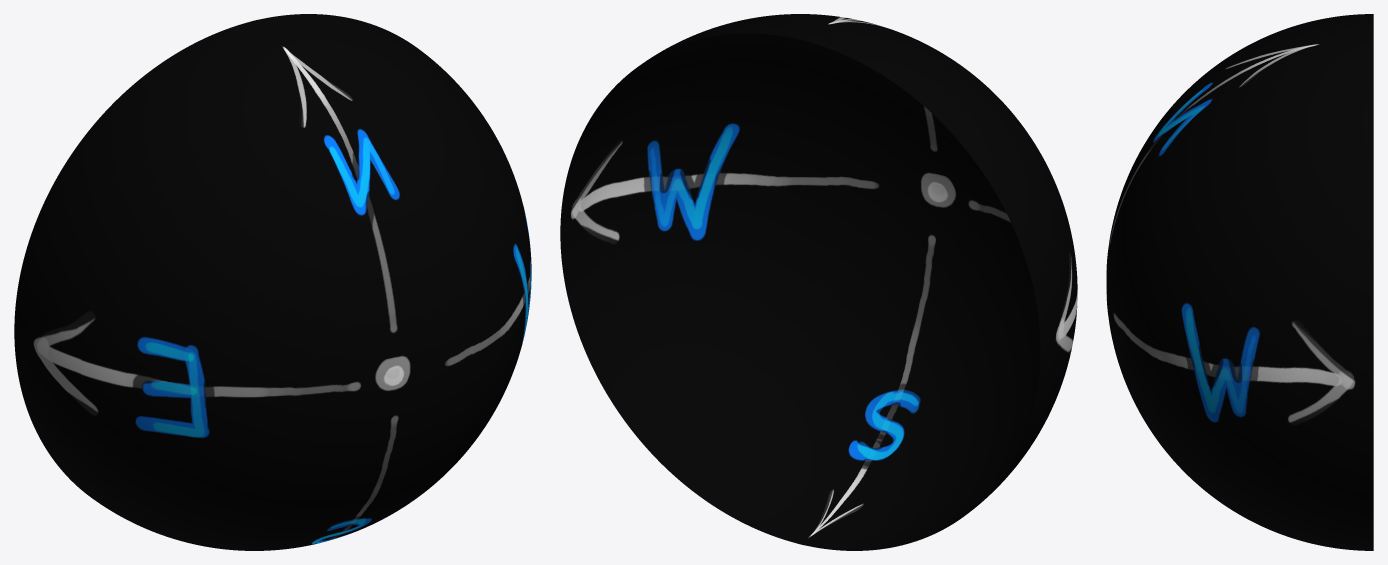
The model's file is flipped_180_25Kpoly.fbx.
3 views of the same model, side by side, from view 1: azimuth 30°, elevation 25°; view 2: azimuth 150°, elevation 25°; view 3: azimuth 270°, elevation 25° (orthographic). The views are drawn at different scales.
Parts seen in each view (by area): view 1: pSphere1; view 2: pSphere1; view 3: pSphere1.
Part boxes in pixels (x1=…): pSphere1: x1=14, y1=14, x2=531, y2=550; pSphere1: x1=560, y1=14, x2=1077, y2=550; pSphere1: x1=1106, y1=14, x2=1373, y2=550.
Size of the model in its own units: 11.94 by 12 by 5.97.
Materials: 1 (1 with a texture image).
